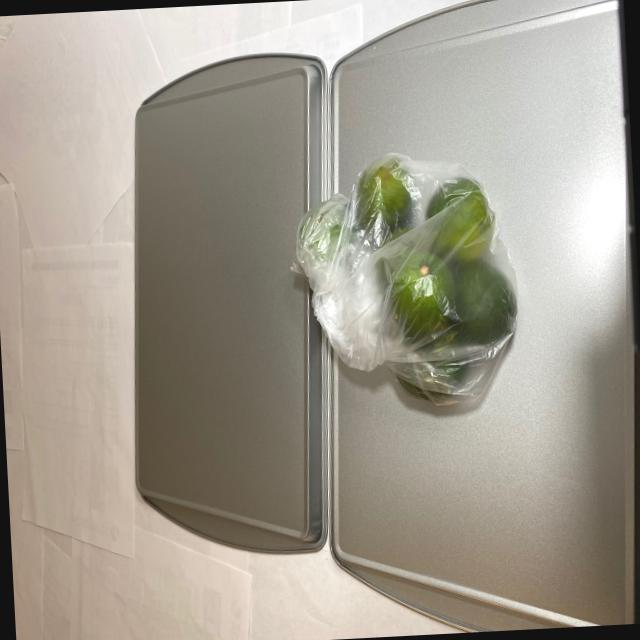lemon: (300, 140, 519, 433)
